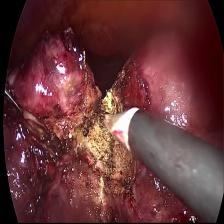Grasper: (0, 74, 31, 130)
Hook: (92, 98, 142, 161)
